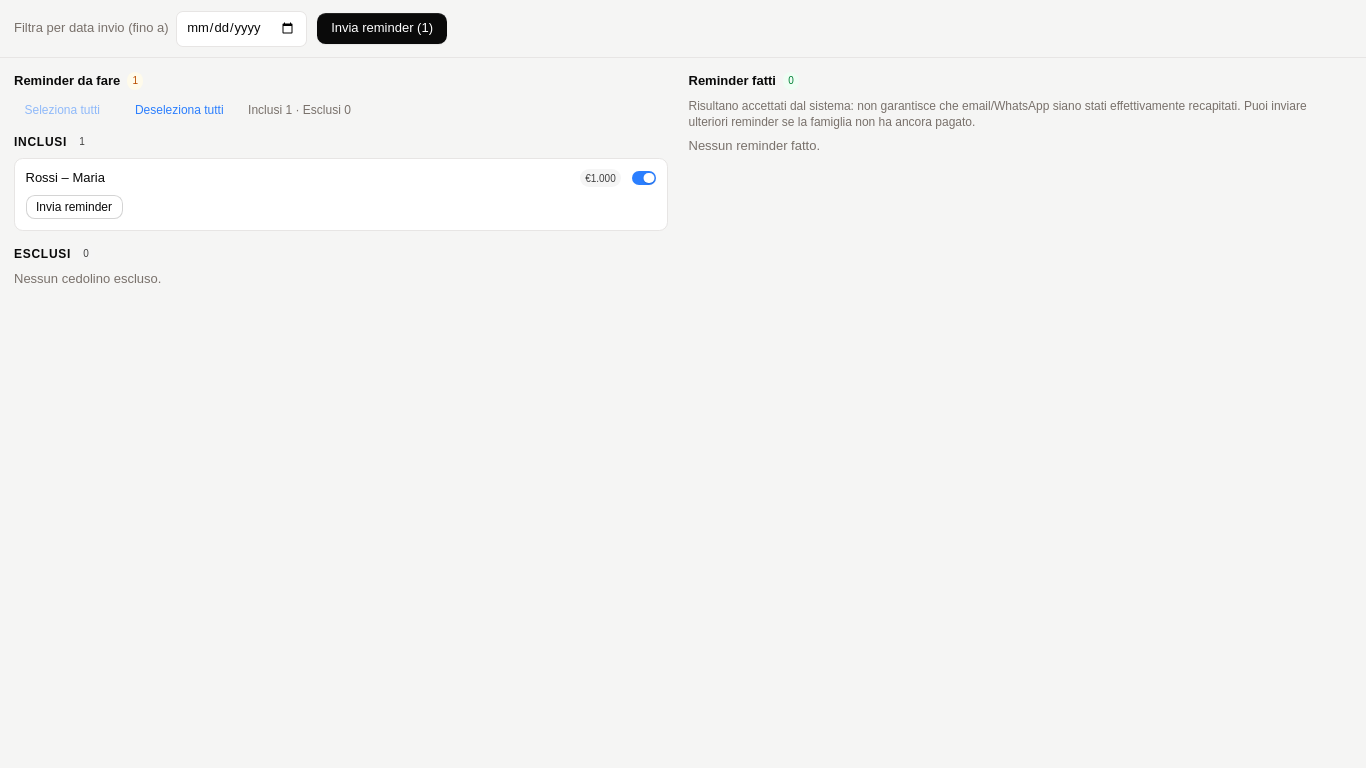
CedoliniPagamentiView — reminder da fare/fatti + bulk (U6) › dry run fallito: mostra l'errore e NON offre la conferma di invio del resto
Click the button with test id "cedolini-pagamenti-reminder-invia" at (382, 29), box x1=317 y1=13 x2=447 y2=44
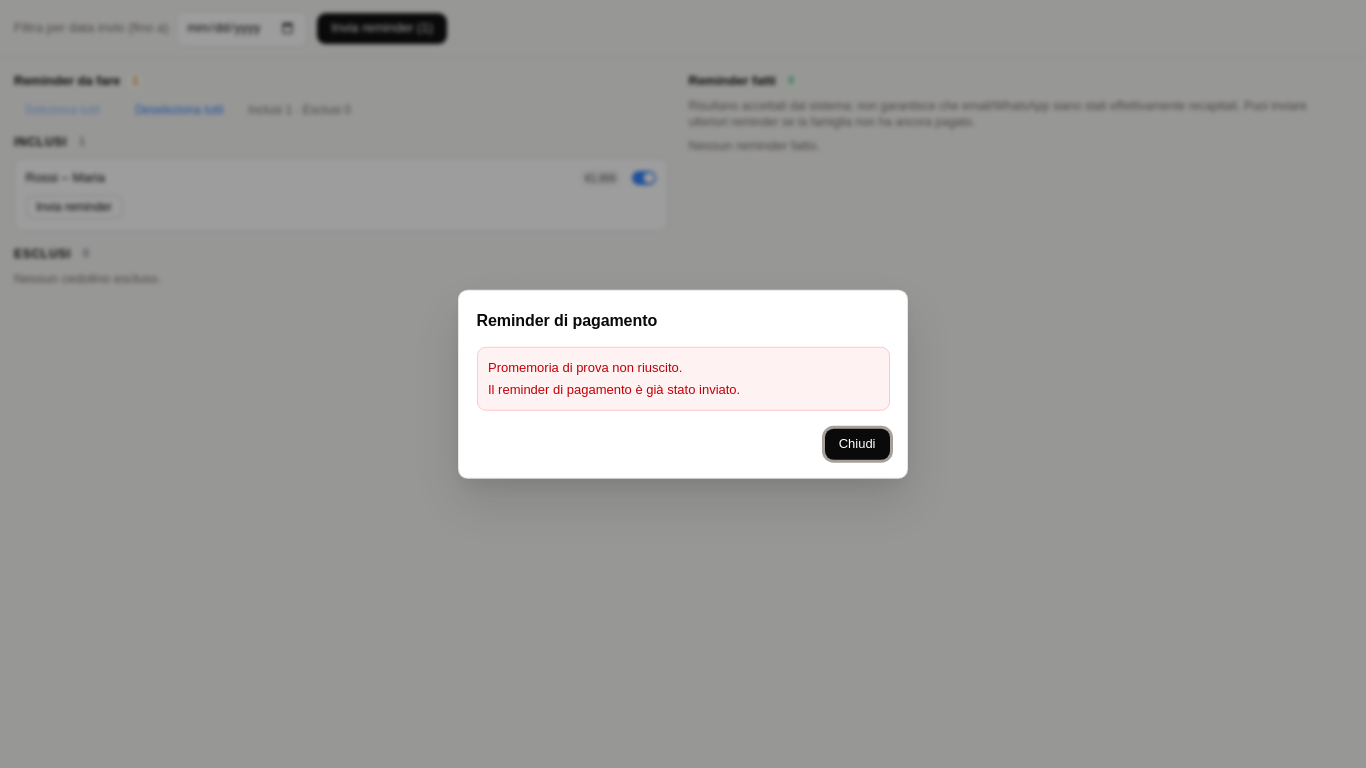
Expected: the element with test id "cedolini-pagamenti-reminder-dry-run-failed" shows "già stato inviato", x1=488 y1=382 x2=740 y2=397
